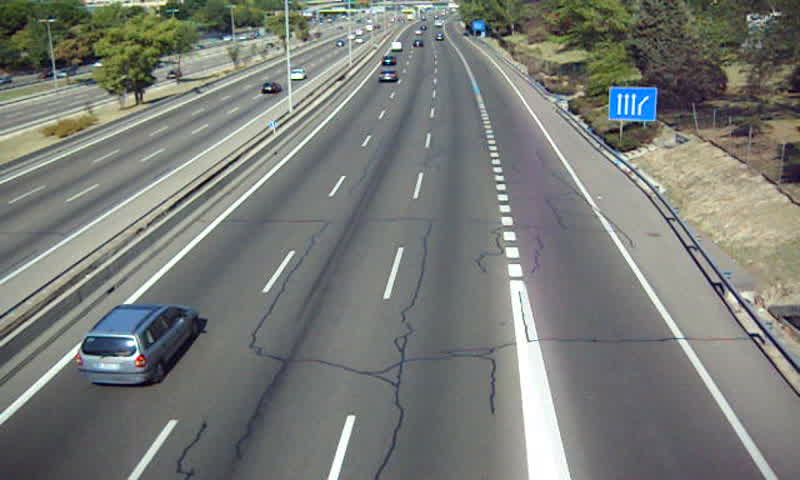car: (76, 303, 201, 384), (378, 69, 398, 82)
